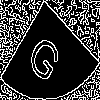G: (25, 25, 68, 86)
